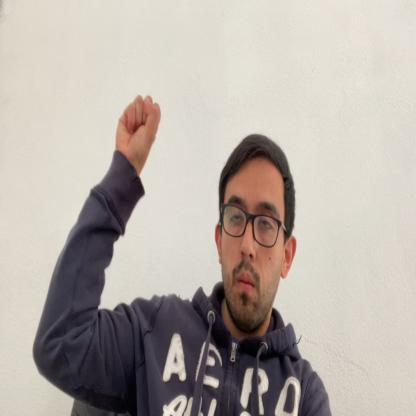S: (116, 94, 161, 169)
